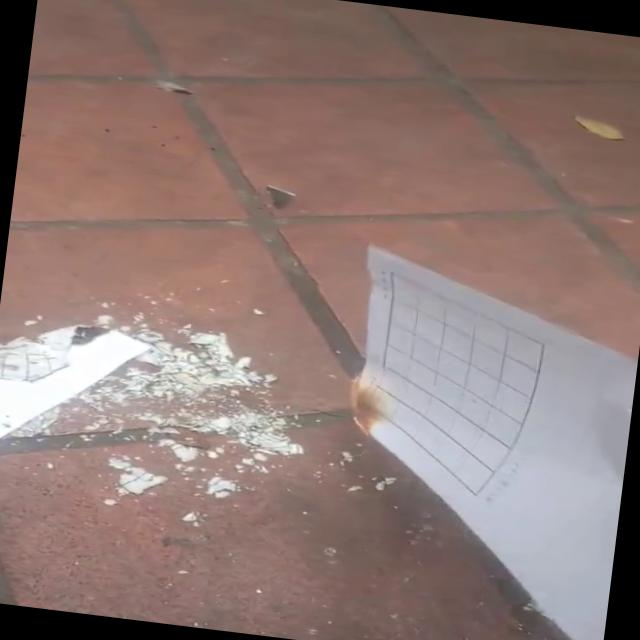Fire_Dangerous: (340, 378, 387, 438)
